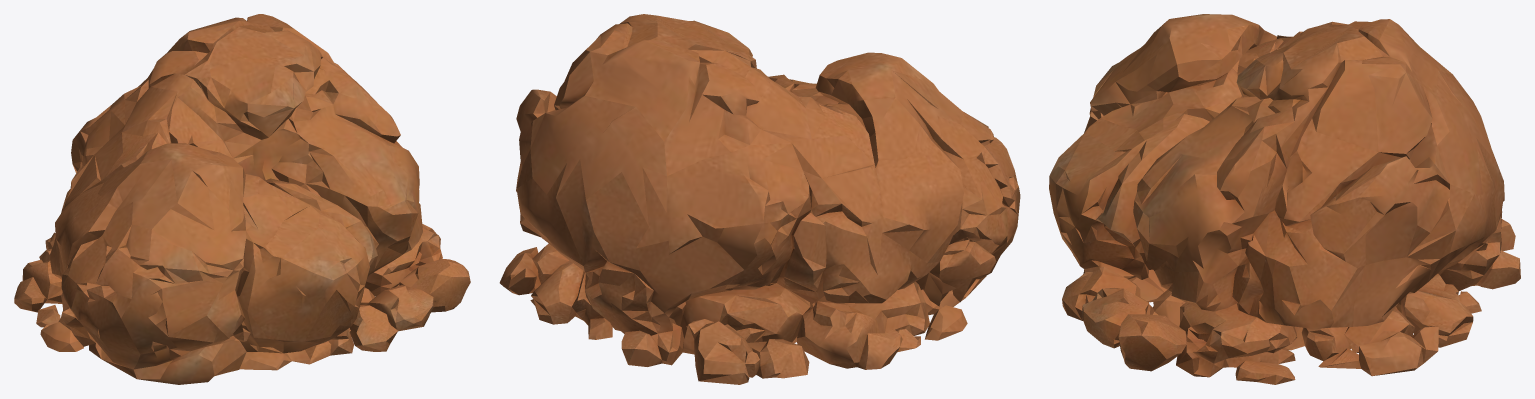
Rendered from p_rock1.glb.
3 renders of one model, left to right at view 1: azimuth 30°, elevation 25°; view 2: azimuth 150°, elevation 25°; view 3: azimuth 270°, elevation 25°, orthographic. The views are drawn at different scales.
Parts seen in each view (by area): view 1: mesh_0; view 2: mesh_0; view 3: mesh_0.
Boxes of the visible parts, box(x1,y1,x2,y2) form: mesh_0: box(14, 14, 470, 384); mesh_0: box(499, 14, 1020, 384); mesh_0: box(1049, 14, 1520, 384).
Size of the model in its own units: 1.9 by 1.11 by 1.77.
1 material, 1 textured.
